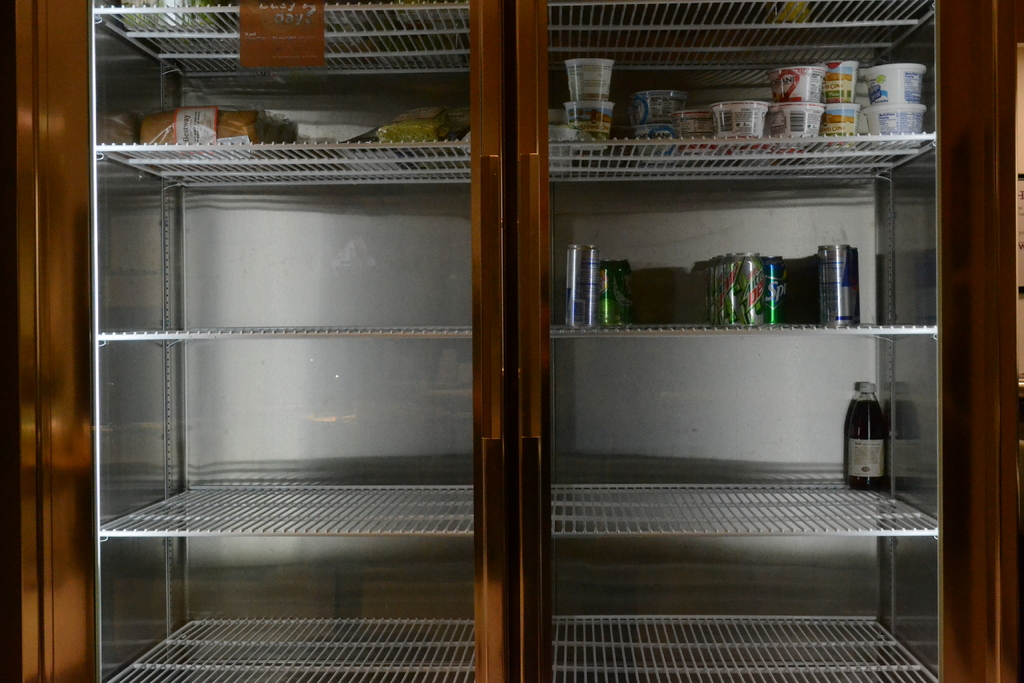handle: (475, 155, 504, 683), (521, 154, 545, 672)
refrigerator door: (514, 41, 999, 683), (87, 28, 515, 683)
